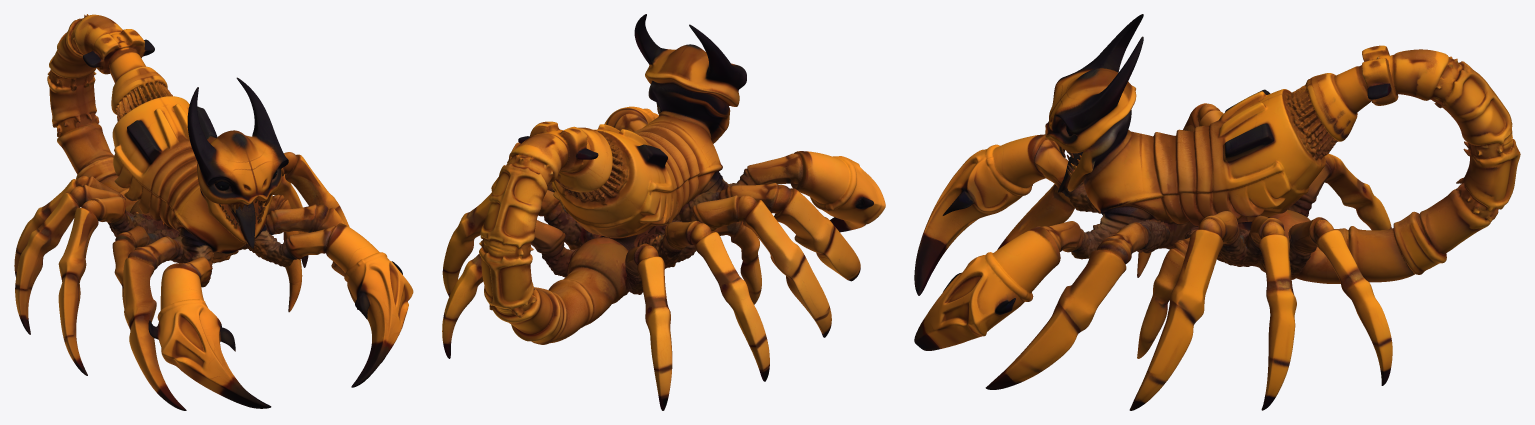
Rendered from Scorpion_RO.glb.
3 renders of one model, left to right at view 1: azimuth 30°, elevation 25°; view 2: azimuth 150°, elevation 25°; view 3: azimuth 270°, elevation 25°, orthographic. The views are drawn at different scales.
Parts seen in each view (by area): view 1: Mesh_0; view 2: Mesh_0; view 3: Mesh_0.
Boxes of the visible parts, x1,y1,x2,y2 form: Mesh_0: (14,14,413,410); Mesh_0: (442,14,885,410); Mesh_0: (914,14,1520,410).
Bounding box in the file's own units: 1.28 × 1.06 × 1.9.
Materials: 1 (1 with a texture image).
